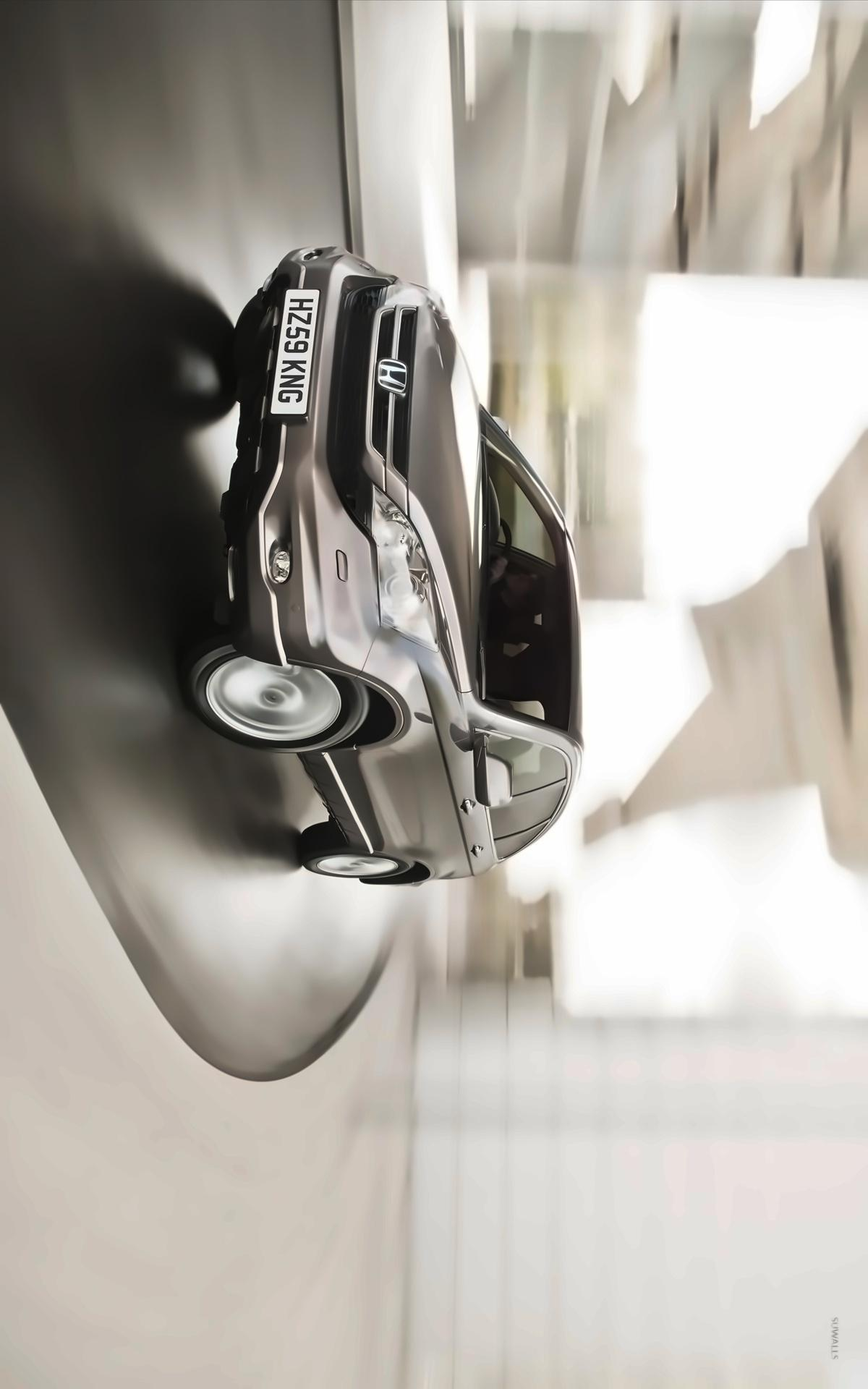Car hood: (403, 303, 486, 691)
Fender - -F-L-: (305, 637, 466, 763)
Front bumper: (232, 241, 386, 680)
Headlight - -L-: (367, 481, 443, 657)
Passenger-s door - -F-L-: (284, 720, 593, 820)
Passenger-s door - -R-L-: (306, 783, 583, 878)
Side bumper - -L-: (285, 742, 383, 859)
Side mirror - -L-: (457, 727, 513, 807)
